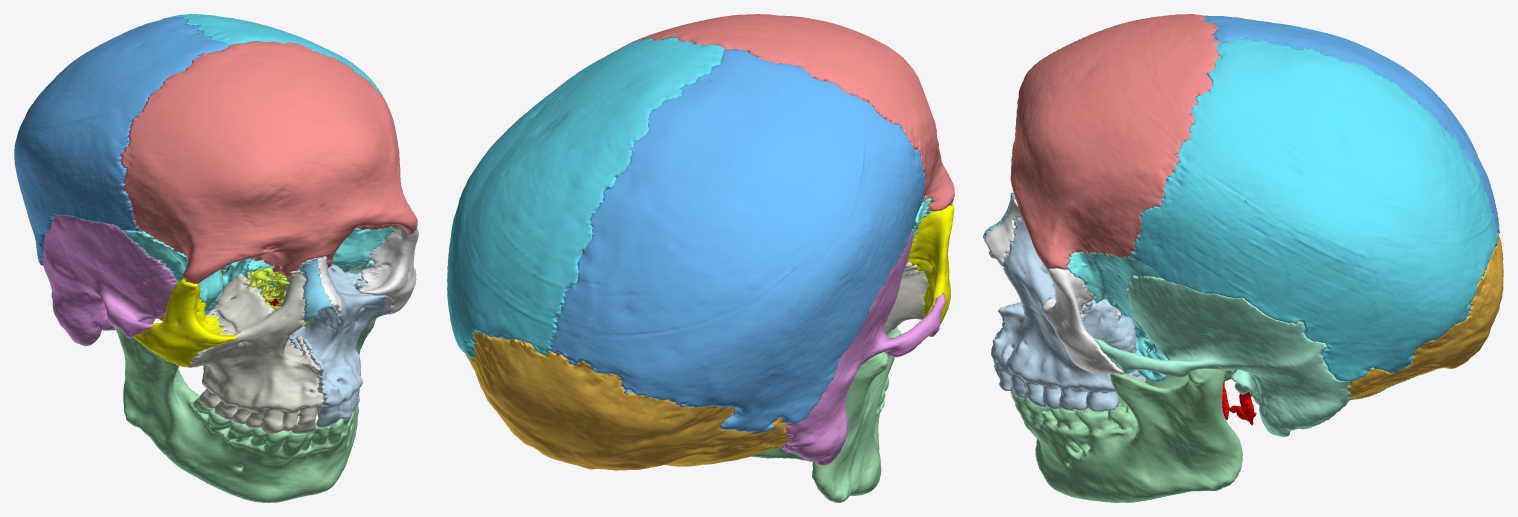
Rendered from craneo.glb.
The picture shows the model from 3 angles, left to right: view 1: azimuth 30°, elevation 25°; view 2: azimuth 150°, elevation 25°; view 3: azimuth 270°, elevation 25°; orthographic projection. The views are drawn at different scales.
Visible parts, largest first — view 1: Object_9, Object_8, Object_3, Object_5, Object_7, Object_14, Object_2, Object_6, Object_15, Object_12, Object_13, Object_21 (+1 smaller); view 2: Object_8, Object_12, Object_4, Object_9, Object_7, Object_3, Object_6, Object_5; view 3: Object_12, Object_9, Object_3, Object_10, Object_14, Object_8, Object_4, Object_2, Object_15, Object_11.
Part boxes in pixels (x1,y1,x2,y2): Object_9: (120,41,417,283); Object_8: (14,16,230,265); Object_3: (114,268,375,502); Object_5: (187,259,324,434); Object_7: (42,215,221,346); Object_14: (288,256,392,427); Object_2: (124,227,398,315); Object_6: (133,278,238,367); Object_15: (358,226,418,314); Object_12: (162,14,396,135); Object_13: (300,259,332,322); Object_21: (249,267,289,310); Object_8: (550,49,924,433); Object_12: (447,37,724,358); Object_4: (465,331,789,470); Object_9: (618,14,954,211); Object_7: (780,229,945,465); Object_3: (751,329,901,502); Object_6: (907,203,954,323); Object_5: (884,262,928,334); Object_12: (1128,38,1498,381); Object_9: (1010,14,1220,269); Object_3: (1010,337,1242,502); Object_10: (1093,275,1353,436); Object_14: (991,217,1145,411); Object_8: (1203,15,1499,233); Object_4: (1347,233,1503,399); Object_2: (1066,251,1167,382); Object_15: (1042,268,1124,374); Object_11: (984,196,1021,267).
Bounding box in the file's own units: 14.46 × 17.14 × 18.35.
